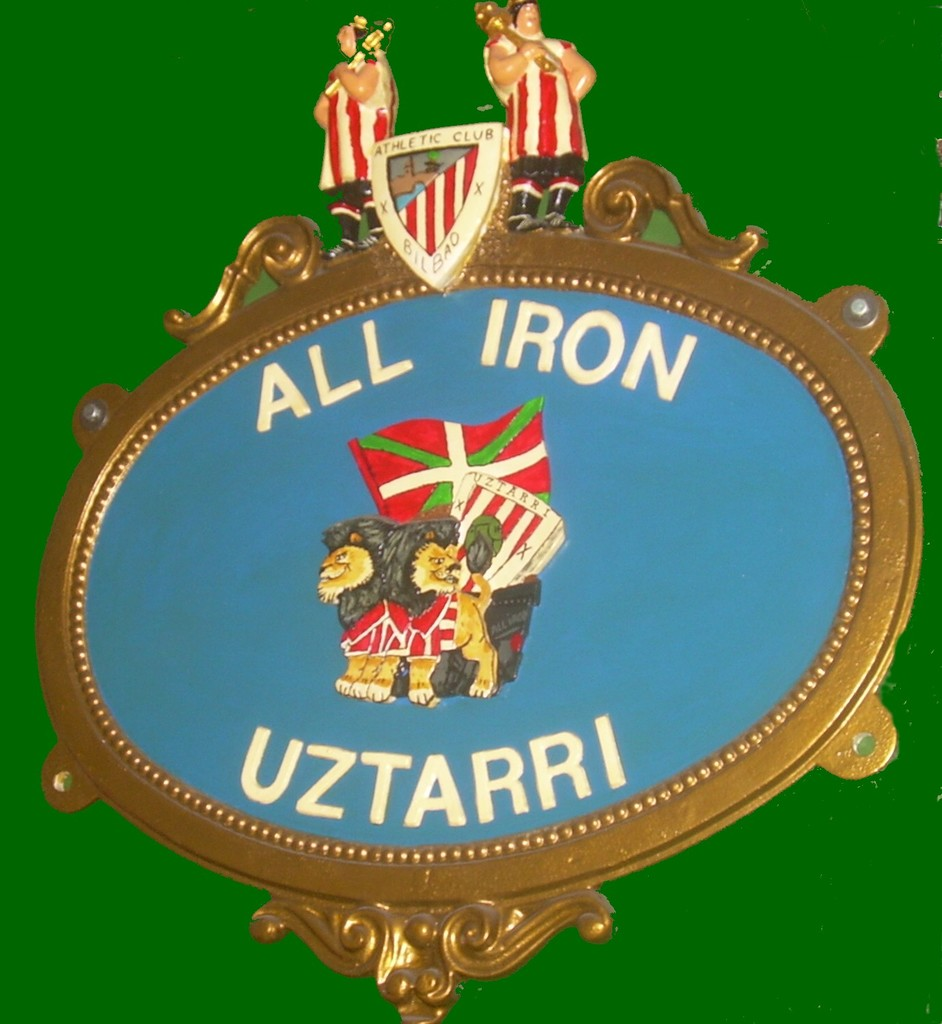person: (311, 14, 401, 251)
